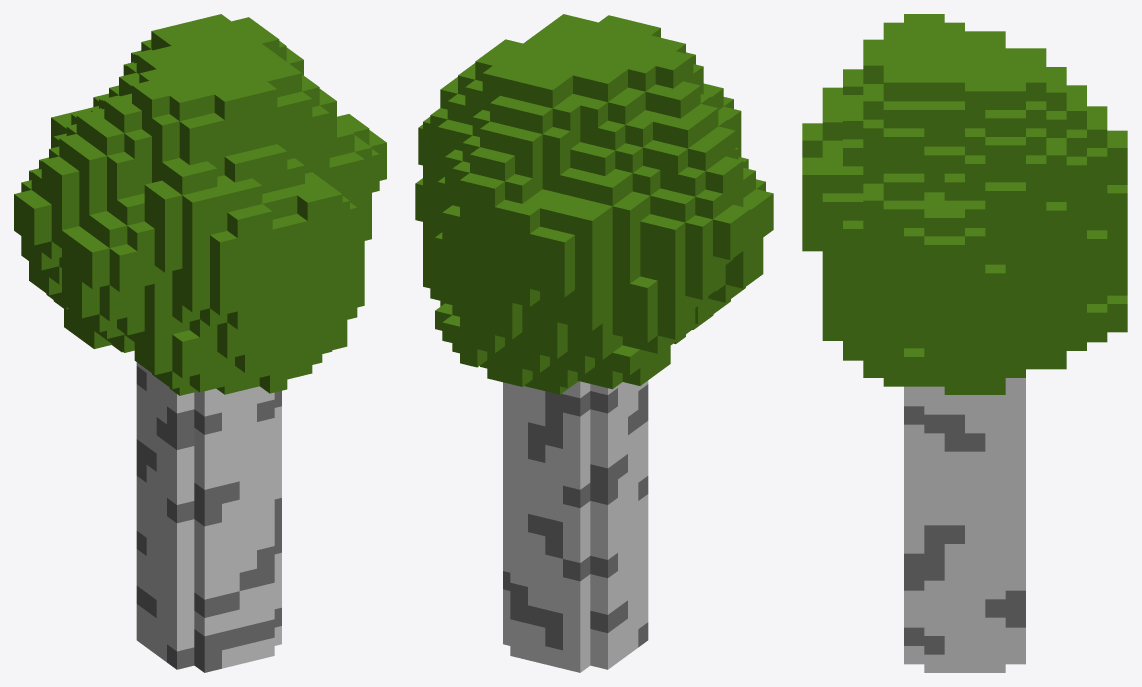
File: Berk.obj
3 renders of one model, left to right at view 1: azimuth 30°, elevation 25°; view 2: azimuth 150°, elevation 25°; view 3: azimuth 270°, elevation 25°, orthographic.
Bounding box in the file's own units: 1.9 × 3.2 × 1.6.
1 material, 1 textured.
